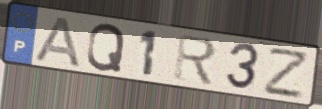1: (138, 30, 158, 79)
3: (222, 41, 261, 93)
A: (33, 15, 83, 70)
Q: (84, 22, 127, 74)
R: (172, 32, 219, 89)
Z: (263, 47, 312, 101)
